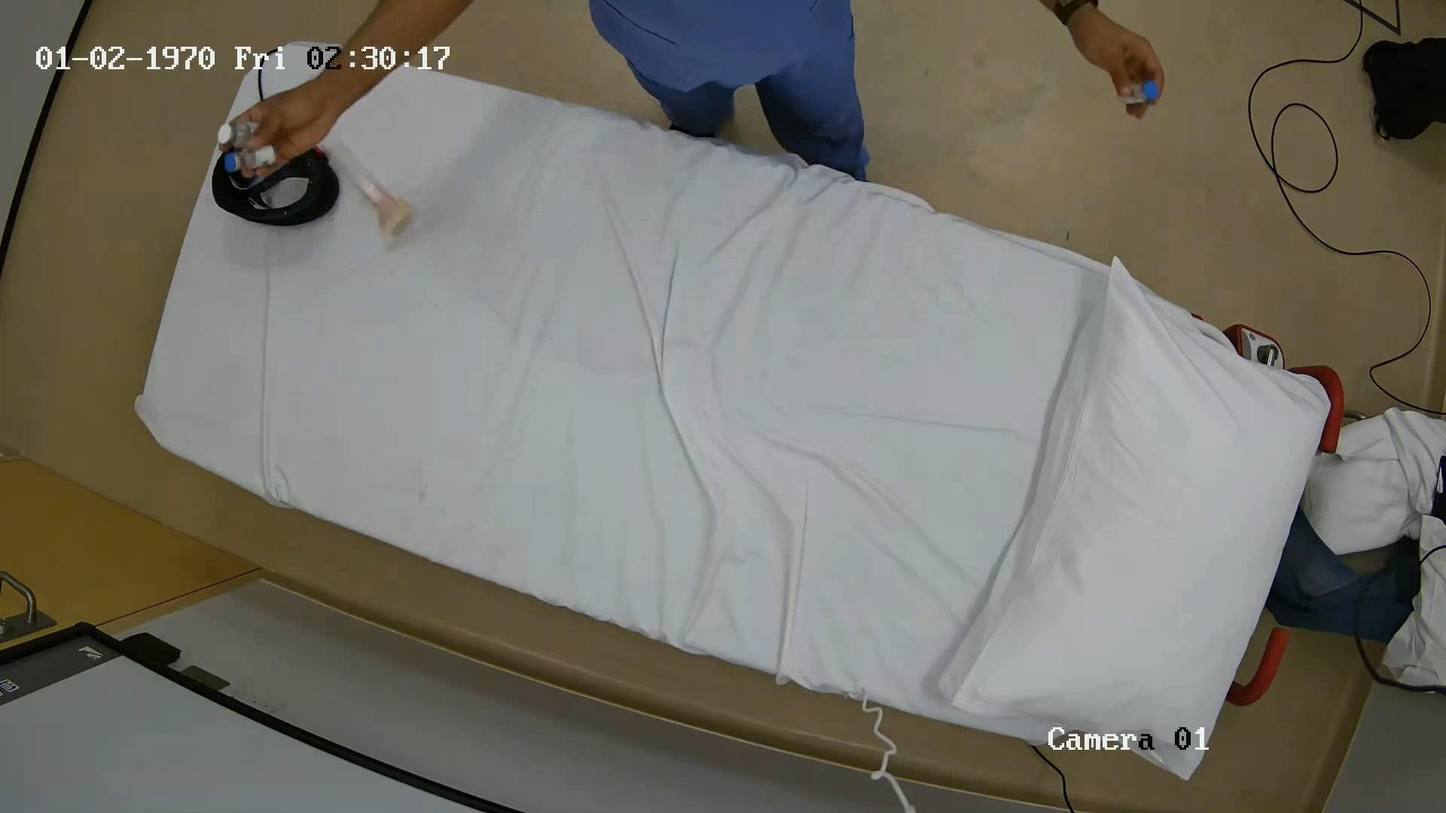augmentin: (218, 122, 255, 150)
bed: (136, 42, 1342, 778)
cefazolin: (223, 145, 276, 174), (1125, 81, 1160, 104)
prepstick: (322, 141, 412, 238)
tourniquet: (211, 151, 339, 226)
